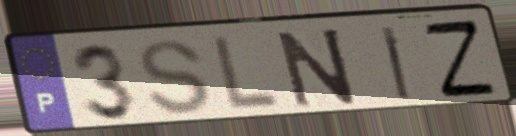3: (69, 40, 138, 124)
I: (377, 23, 413, 102)
L: (210, 32, 284, 114)
N: (273, 25, 361, 111)
S: (136, 37, 214, 117)
Z: (419, 16, 500, 101)
